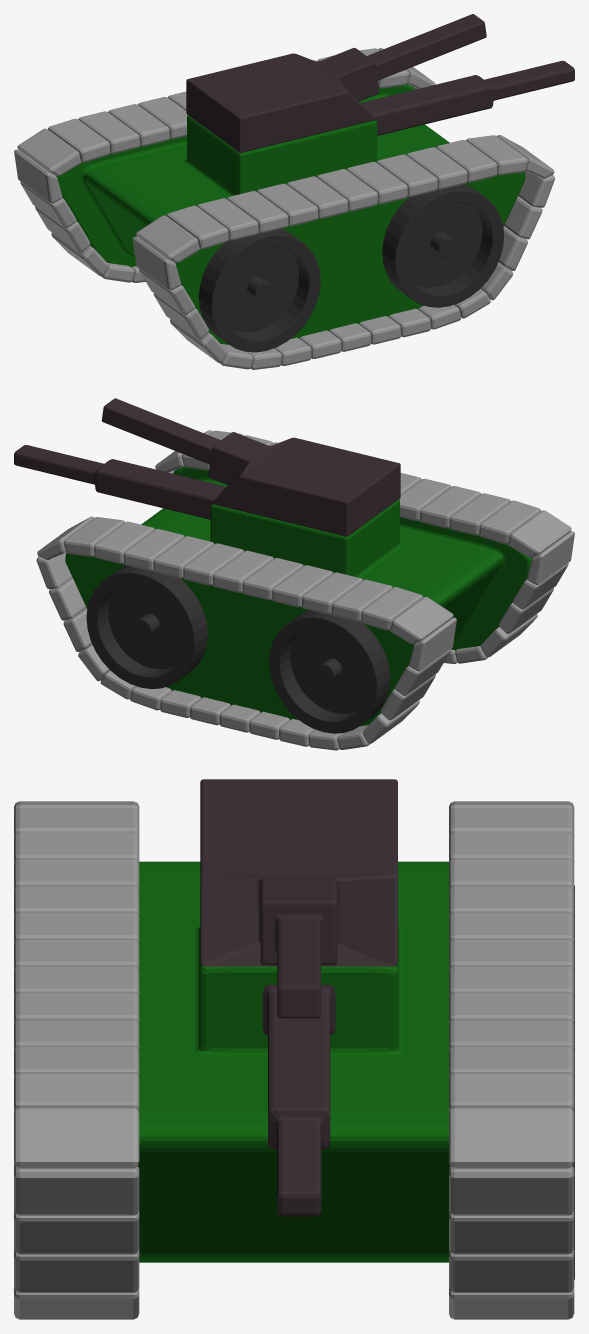
File: tank.fbx
3 views of the same model, one above another, from view 1: azimuth 30°, elevation 25°; view 2: azimuth 150°, elevation 25°; view 3: azimuth 270°, elevation 25° (orthographic). The views are drawn at different scales.
Parts seen in each view (by area): view 1: body, trackRight, turret, trackLeft, wheel3, wheel4; view 2: body, trackLeft, turret, trackRight, wheel1, wheel2; view 3: body, trackRight, trackLeft, turret.
Boxes of the visible parts, left/top/right/bottom form: body: left=56, top=60, right=574, bottom=344; trackRight: left=132, top=135, right=554, bottom=369; turret: left=186, top=14, right=486, bottom=152; trackLeft: left=14, top=48, right=435, bottom=282; wheel3: left=382, top=184, right=504, bottom=307; wheel4: left=198, top=229, right=320, bottom=352; body: left=14, top=445, right=532, bottom=726; trackLeft: left=36, top=516, right=456, bottom=750; turret: left=101, top=398, right=400, bottom=536; trackRight: left=155, top=430, right=574, bottom=663; wheel1: left=269, top=610, right=390, bottom=733; wheel2: left=86, top=565, right=207, bottom=688; body: left=138, top=861, right=450, bottom=1262; trackRight: left=14, top=801, right=139, bottom=1319; trackLeft: left=449, top=801, right=574, bottom=1319; turret: left=200, top=779, right=397, bottom=1018.
Size of the model in its own units: 582 by 262 by 320.
